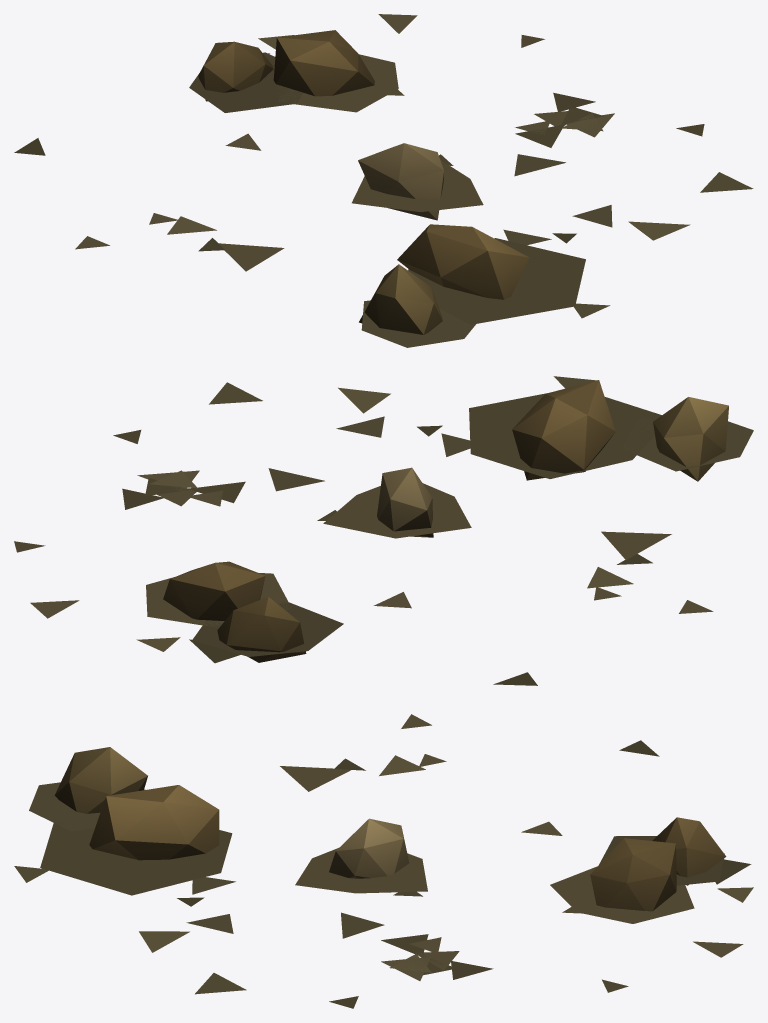
File: stone-sparse.glb
3 views of the same model, one above another, from view 1: azimuth 30°, elevation 25°; view 2: azimuth 150°, elevation 25°; view 3: azimuth 270°, elevation 25° (orthographic). The views are drawn at different scales.
Parts seen in each view (by area): view 1: stone-sparse; view 2: stone-sparse; view 3: stone-sparse.
Boxes of the visible parts, x1,y1,x2,y2 form: stone-sparse: (14,14,753,347); stone-sparse: (14,376,753,685); stone-sparse: (14,714,753,1008).
Size of the model in its own units: 1.17 by 0.1336 by 1.24.
